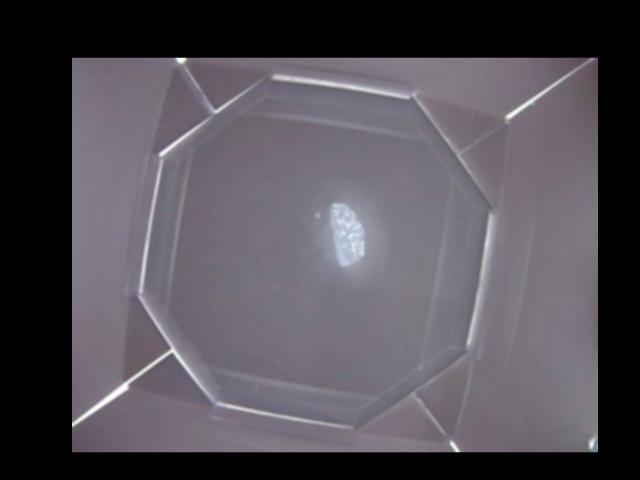China: (330, 201, 364, 264)
